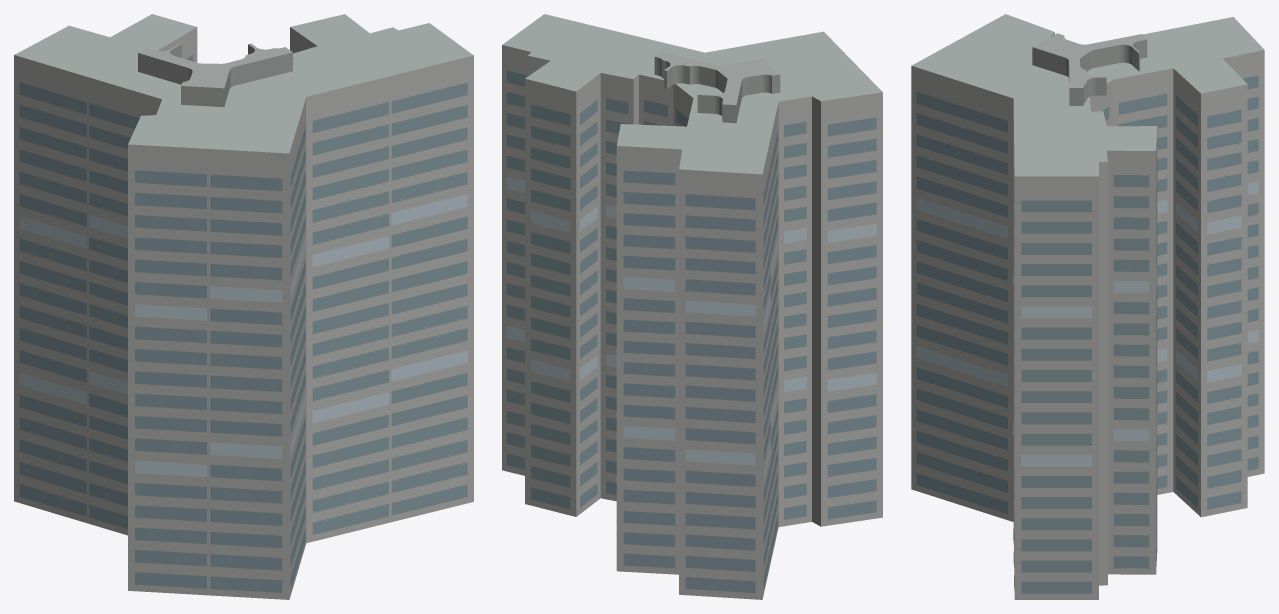
The model's file is fallback-godeok-central-ipark-503.glb.
The picture shows the model from 3 angles, left to right: view 1: azimuth 30°, elevation 25°; view 2: azimuth 150°, elevation 25°; view 3: azimuth 270°, elevation 25°; orthographic projection. The views are drawn at different scales.
Parts seen in each view (by area): view 1: fallback-godeok-central-ipark-503; view 2: fallback-godeok-central-ipark-503; view 3: fallback-godeok-central-ipark-503.
Boxes of the visible parts, x1,y1,x2,y2 form: fallback-godeok-central-ipark-503: (14,14,473,599); fallback-godeok-central-ipark-503: (502,14,882,599); fallback-godeok-central-ipark-503: (911,14,1264,599).
Size of the model in its own units: 46.55 by 59 by 42.77.
